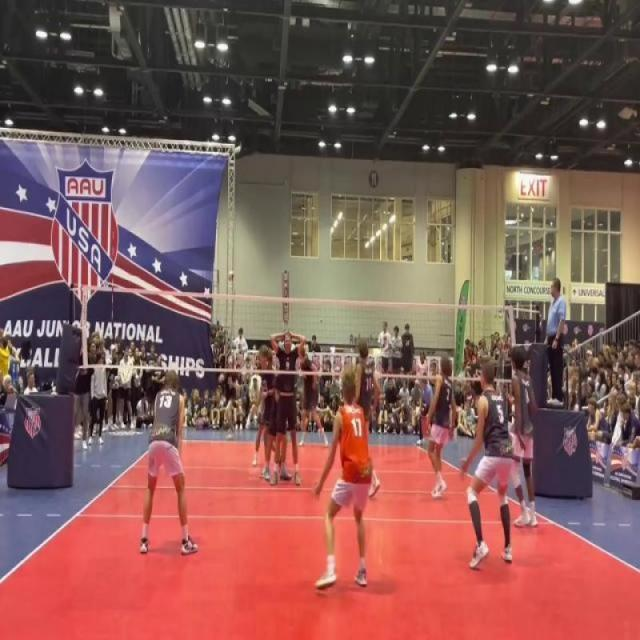volleyball: (228, 270, 235, 286)
